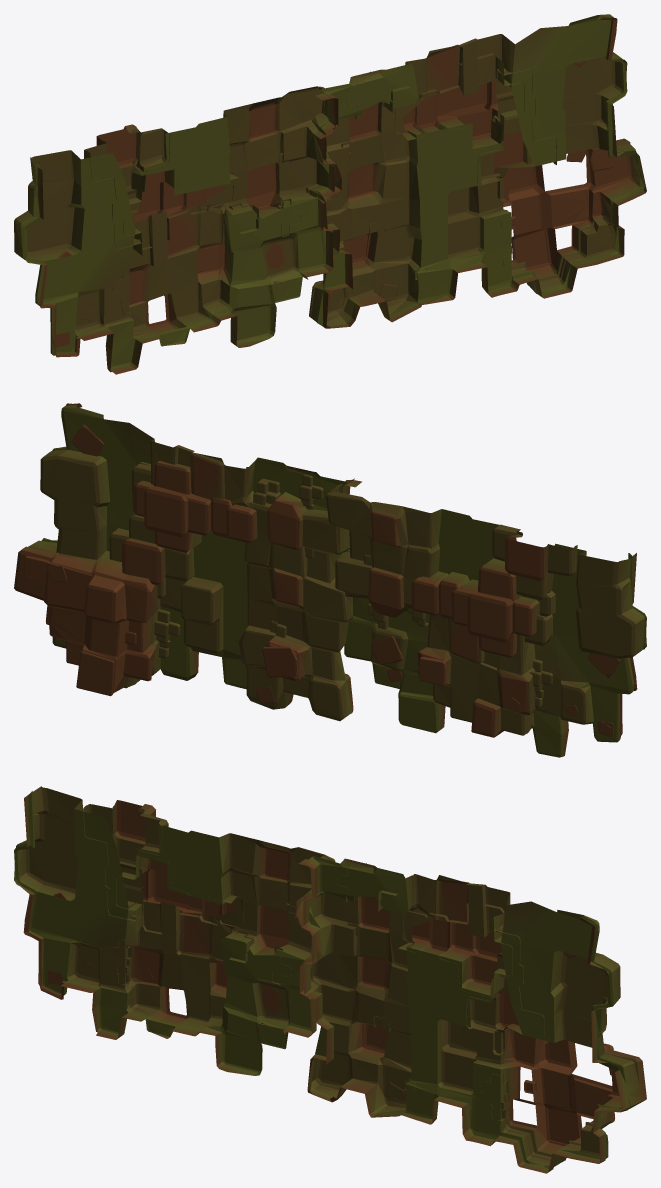
The model's file is RayeredRockAz.fbx.
3 renders of one model, top to bottom at view 1: azimuth 30°, elevation 25°; view 2: azimuth 150°, elevation 25°; view 3: azimuth 330°, elevation 25°, orthographic.
Visible parts, largest first — view 1: w5a02_s99_RayeredRockAzz_001; view 2: w5a02_s99_RayeredRockAzz_001; view 3: w5a02_s99_RayeredRockAzz_001.
Boxes of the visible parts, x1,y1,x2,y2 form: w5a02_s99_RayeredRockAzz_001: [14, 14, 646, 374]; w5a02_s99_RayeredRockAzz_001: [14, 403, 646, 757]; w5a02_s99_RayeredRockAzz_001: [14, 786, 646, 1173].
Bounding box in the file's own units: 109 × 10.77 × 44.55.
